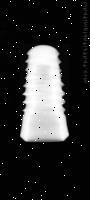Cowellmedi: (20, 44, 69, 142)
